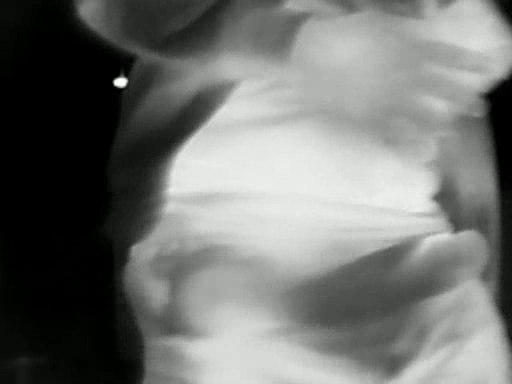chest: (174, 0, 458, 245)
